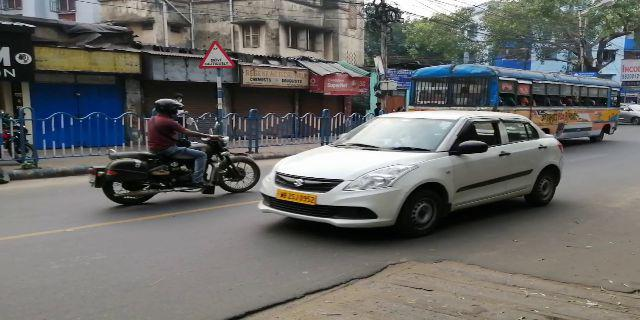Bus: (415, 65, 622, 145)
Car: (266, 109, 564, 217)
Motorbike: (93, 97, 258, 205)
